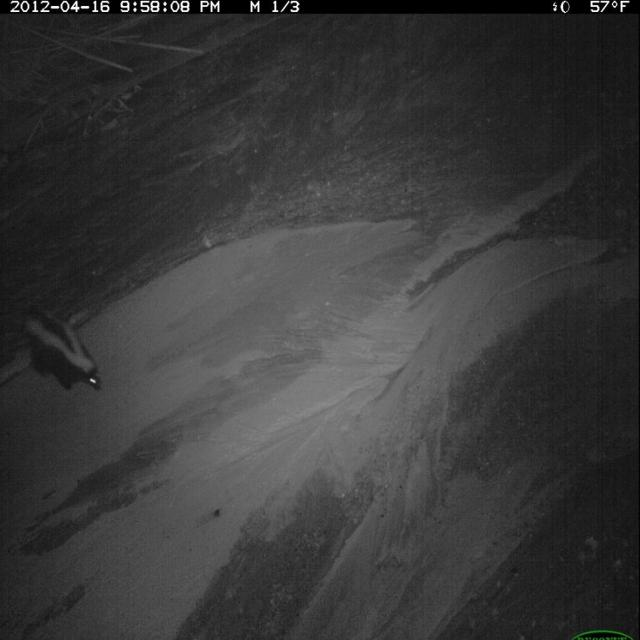skunk: (16, 296, 106, 397)
